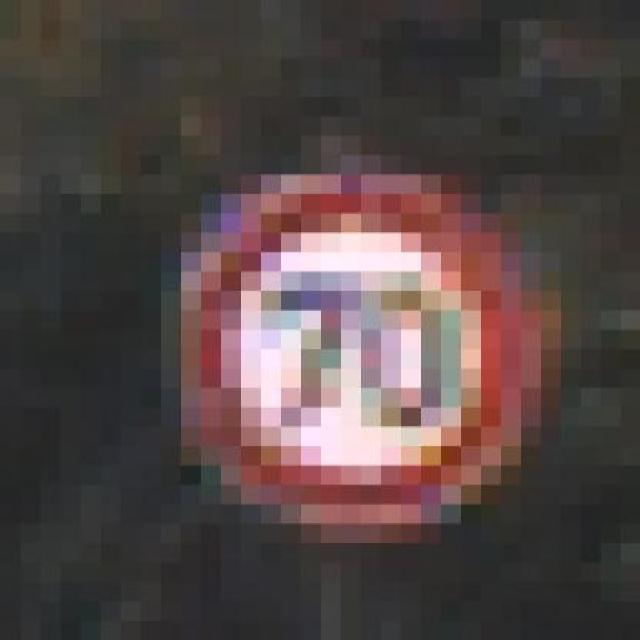forb_speed_over_70: (196, 187, 524, 522)
